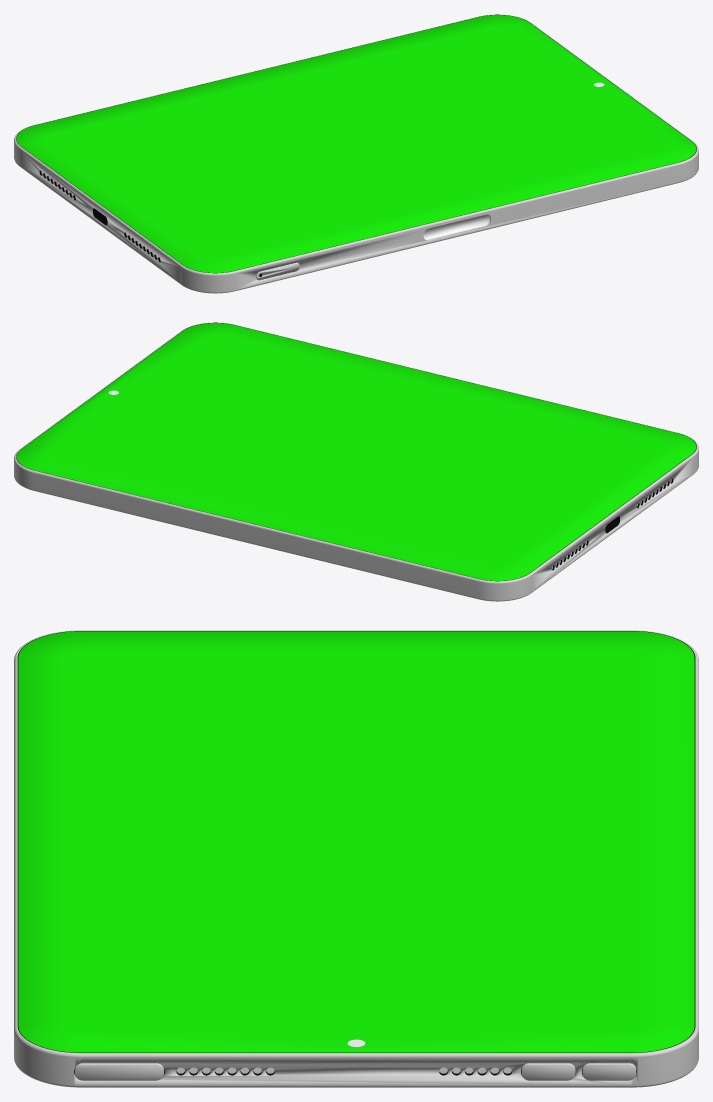
Rendered from tablet.glb.
3 views of the same model, one above another, from view 1: azimuth 30°, elevation 25°; view 2: azimuth 150°, elevation 25°; view 3: azimuth 270°, elevation 25° (orthographic). The views are drawn at different scales.
Parts seen in each view (by area): view 1: Куб; view 2: Куб; view 3: Куб.
Part boxes in pixels (<box>): Куб: <box>14,14,698,293</box>; Куб: <box>14,322,698,601</box>; Куб: <box>14,630,698,1087</box>.
Bounding box in the file's own units: 0.1971 × 0.00949 × 0.1339.
